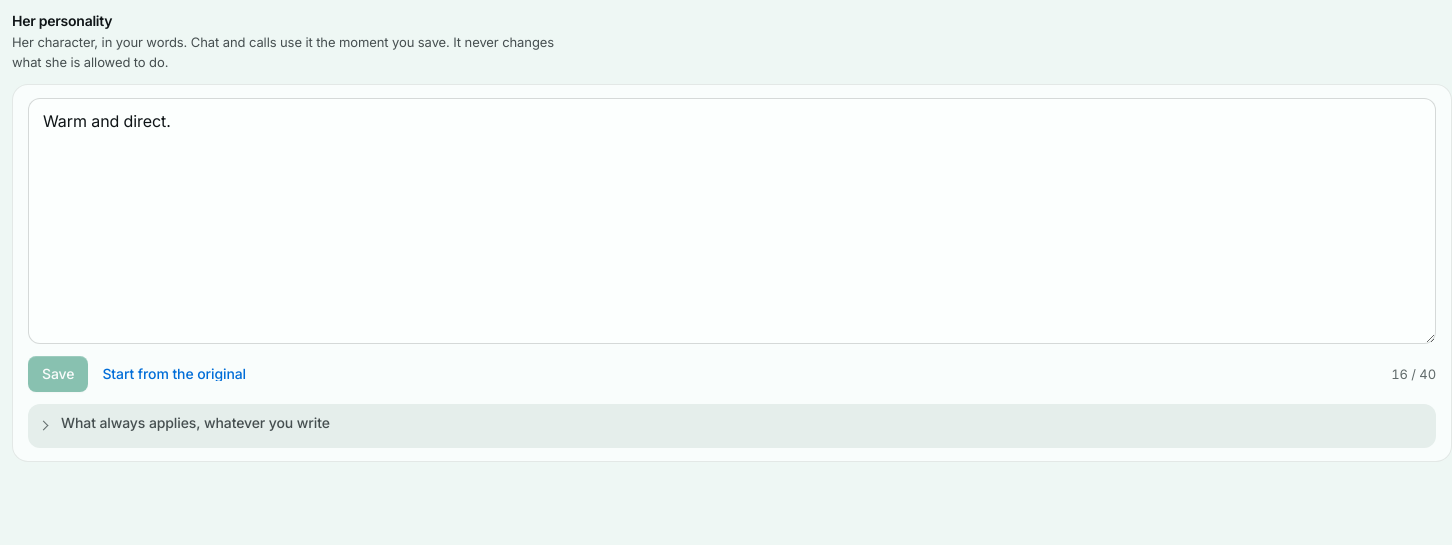
Test: her personality › warns about a save made elsewhere mid-edit, and can show it instead
In the text box named "Personality": (732,221) x1=28 y1=98 x2=1436 y2=344, type " Mine."
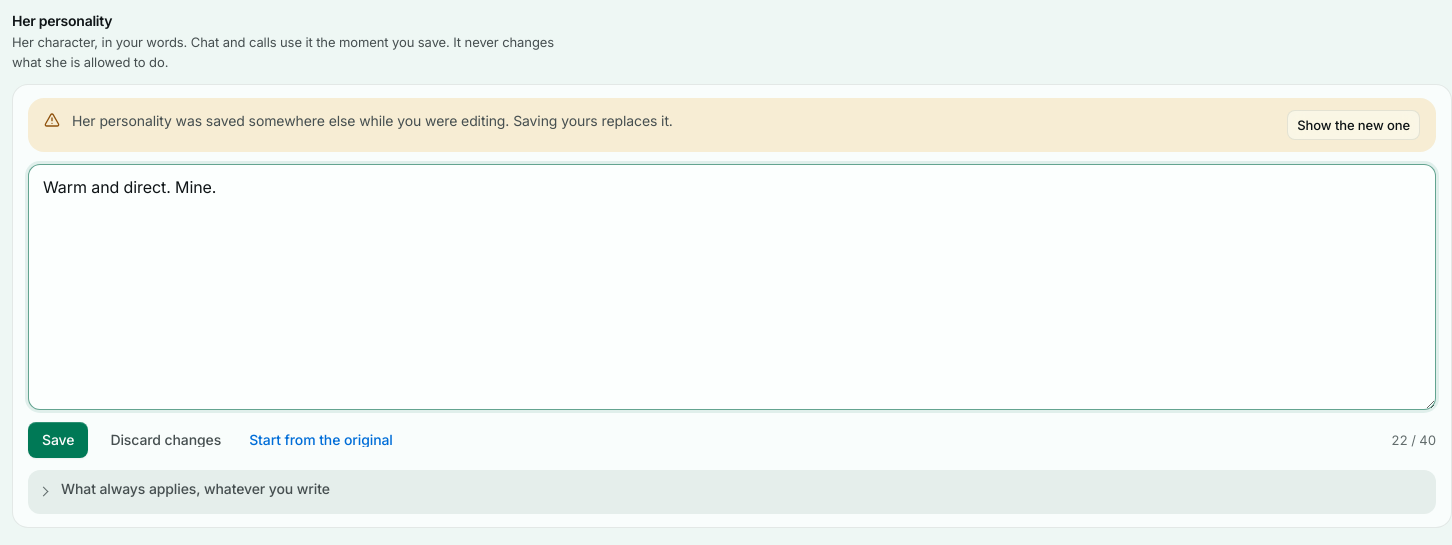
Expected: the text "was saved somewhere else while you were editing" is shown, x1=72 y1=112 x2=673 y2=130
Expected: the text box named "Personality" holds "Warm and direct. Mine.", x1=28 y1=164 x2=1436 y2=410
Click the button "Show the new one": (1354,126) x1=1287 y1=110 x2=1420 y2=140
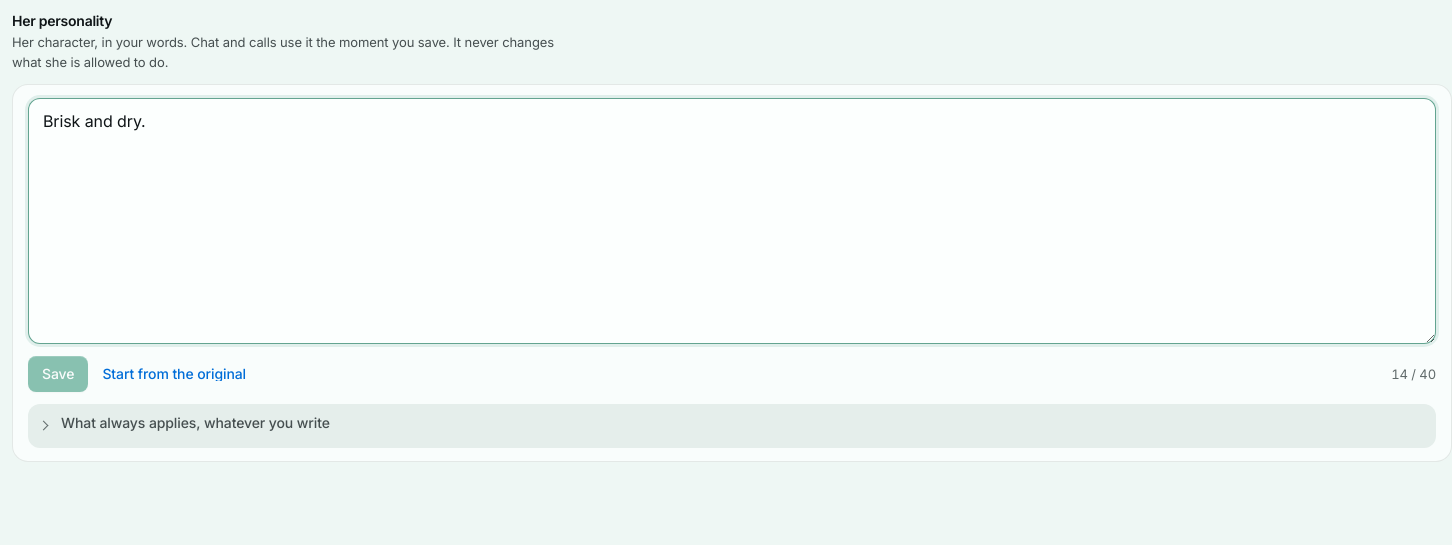
Expected: the text box named "Personality" holds "Brisk and dry.", x1=28 y1=98 x2=1436 y2=344
